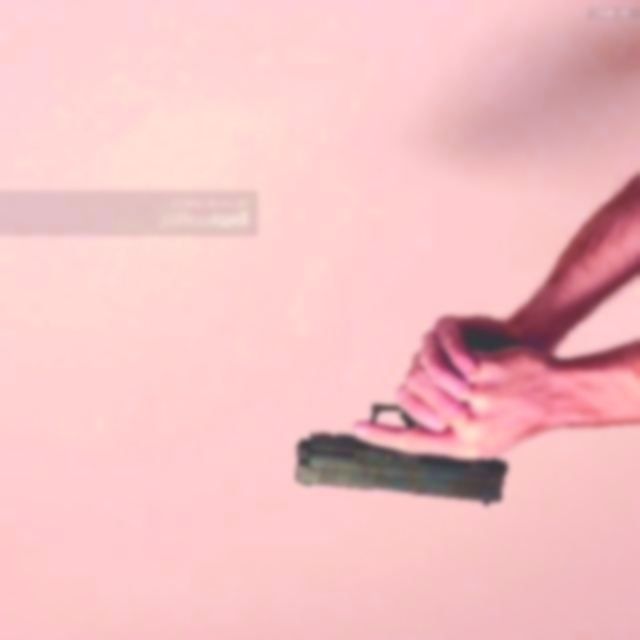gun: (296, 404, 506, 515)
